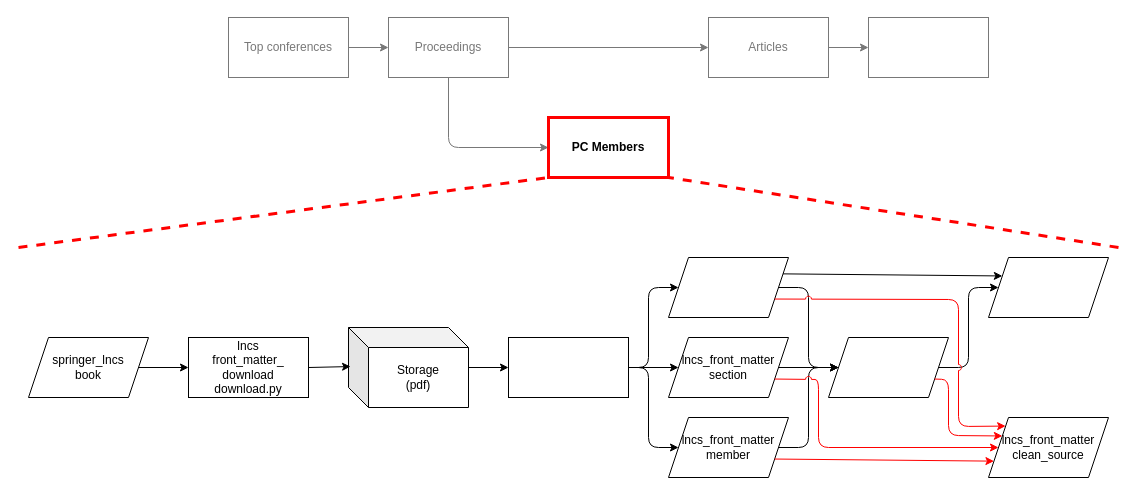
The diagram is 1138 pixels wide and 495 high, and some of its shapes have lost their labels. Each missing label, with the centre of its shape:
Citations: (x=928, y=47)
lncs_front_matter file: (x=728, y=287)
lncs_front_matter run_performance_ metrics: (x=1048, y=287)
lncs_front_matter validation: (x=888, y=367)
pdf_parser: (x=568, y=367)
